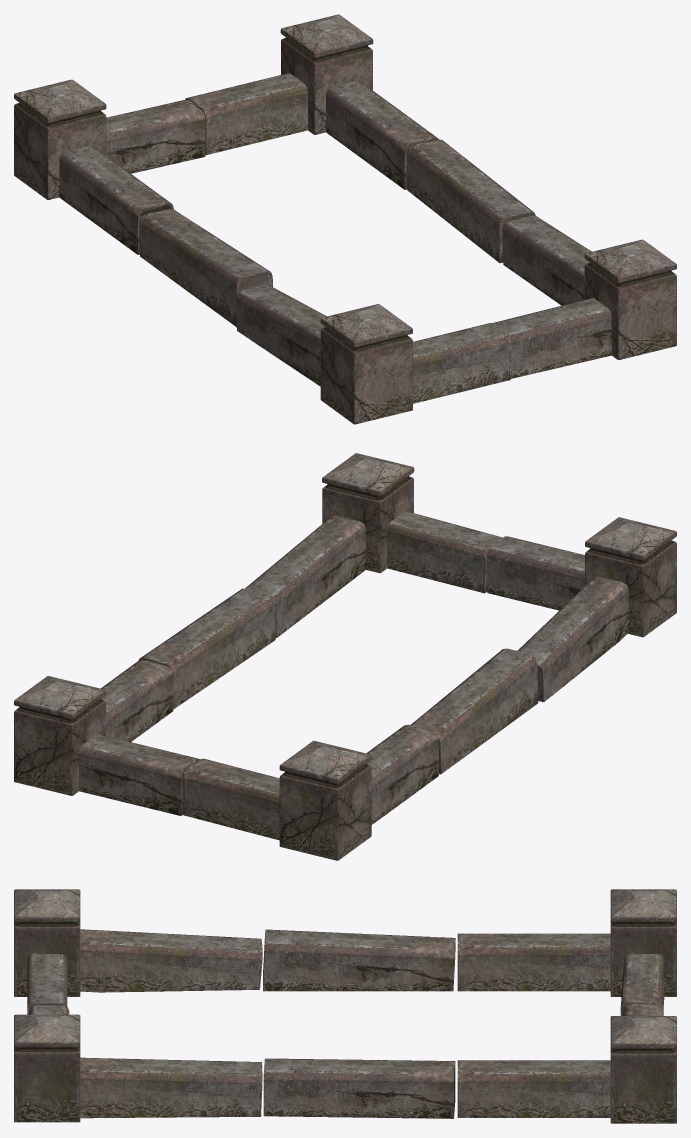
File: SM_Curb_08.fbx
3 views of the same model, one above another, from view 1: azimuth 30°, elevation 25°; view 2: azimuth 150°, elevation 25°; view 3: azimuth 270°, elevation 25° (orthographic). The views are drawn at different scales.
Visible parts, largest first — view 1: SM_curb_08; view 2: SM_curb_08; view 3: SM_curb_08.
Part boxes in pixels (bbox=[...]): SM_curb_08: bbox=[14, 14, 676, 424]; SM_curb_08: bbox=[14, 453, 676, 860]; SM_curb_08: bbox=[14, 889, 676, 1123].
Bounding box in the file's own units: 111 × 29.57 × 202.
